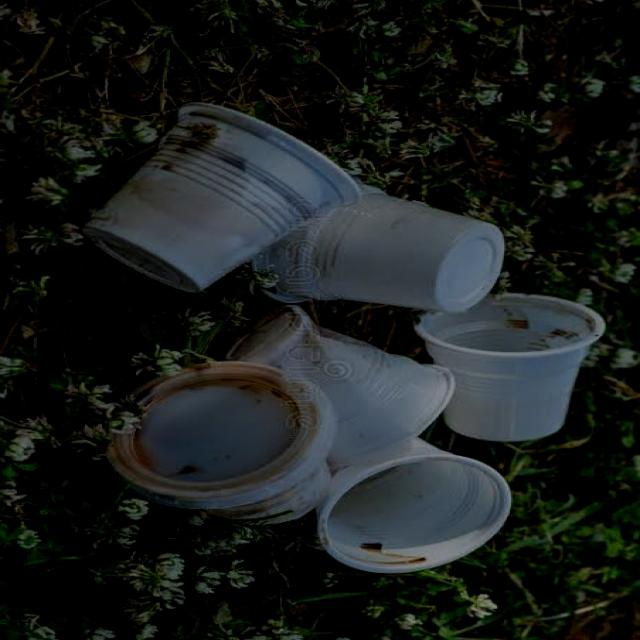plastic: (81, 92, 372, 292), (95, 348, 358, 528), (219, 314, 465, 464), (257, 179, 508, 320), (305, 437, 515, 578)
